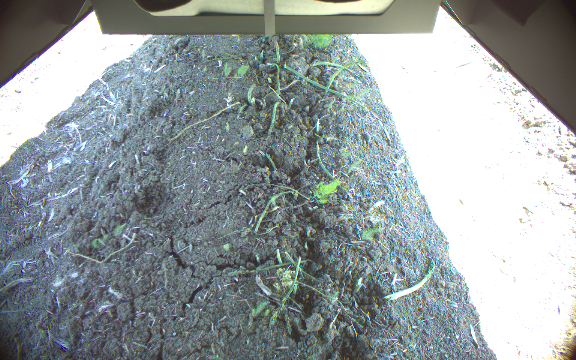aspa: (246, 83, 256, 106), (273, 39, 282, 64)
